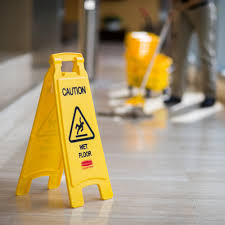wet caution sign: (17, 50, 111, 213)
